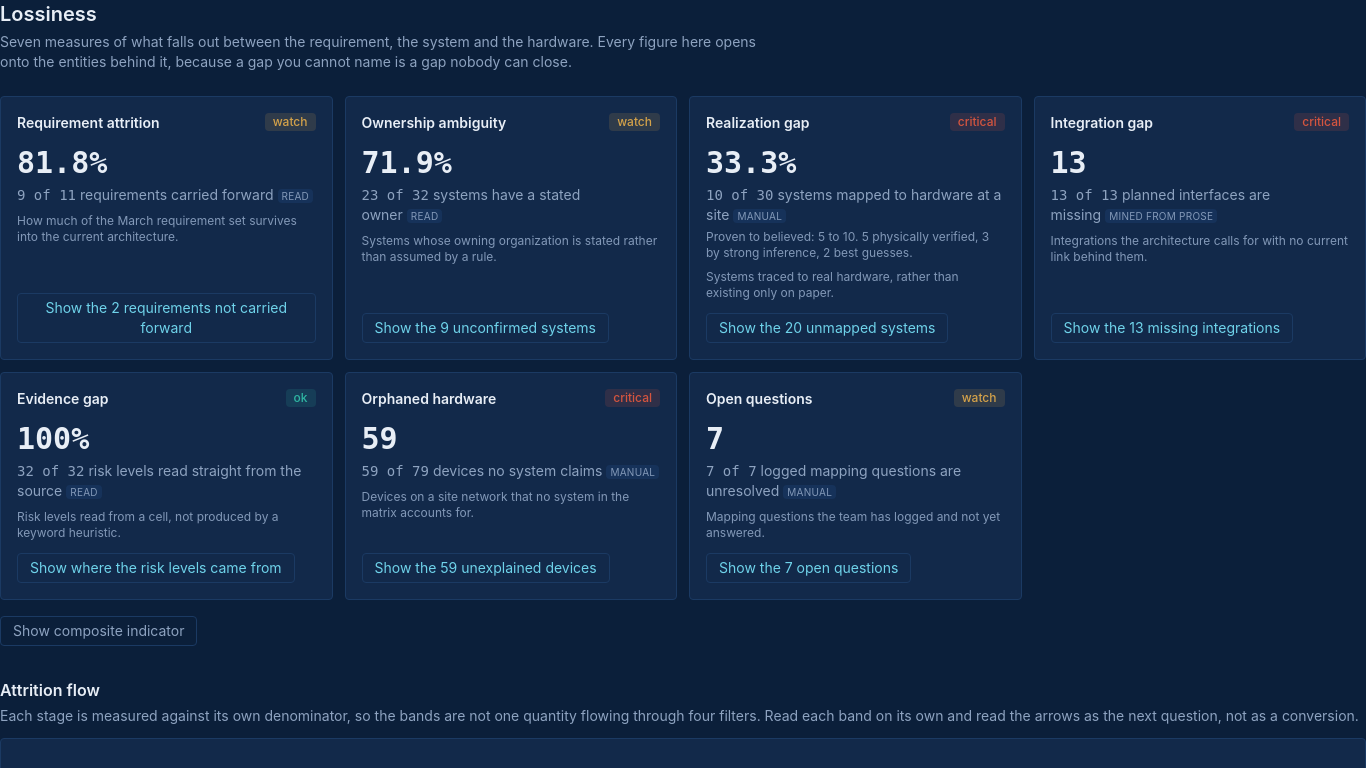
Test case: Lossiness › drills from a figure to the entities behind it
The width and height of the screenshot is (1366, 768).
Click the button "Show the 9 unconfirmed systems" at (485, 328), box [362,313,609,343]
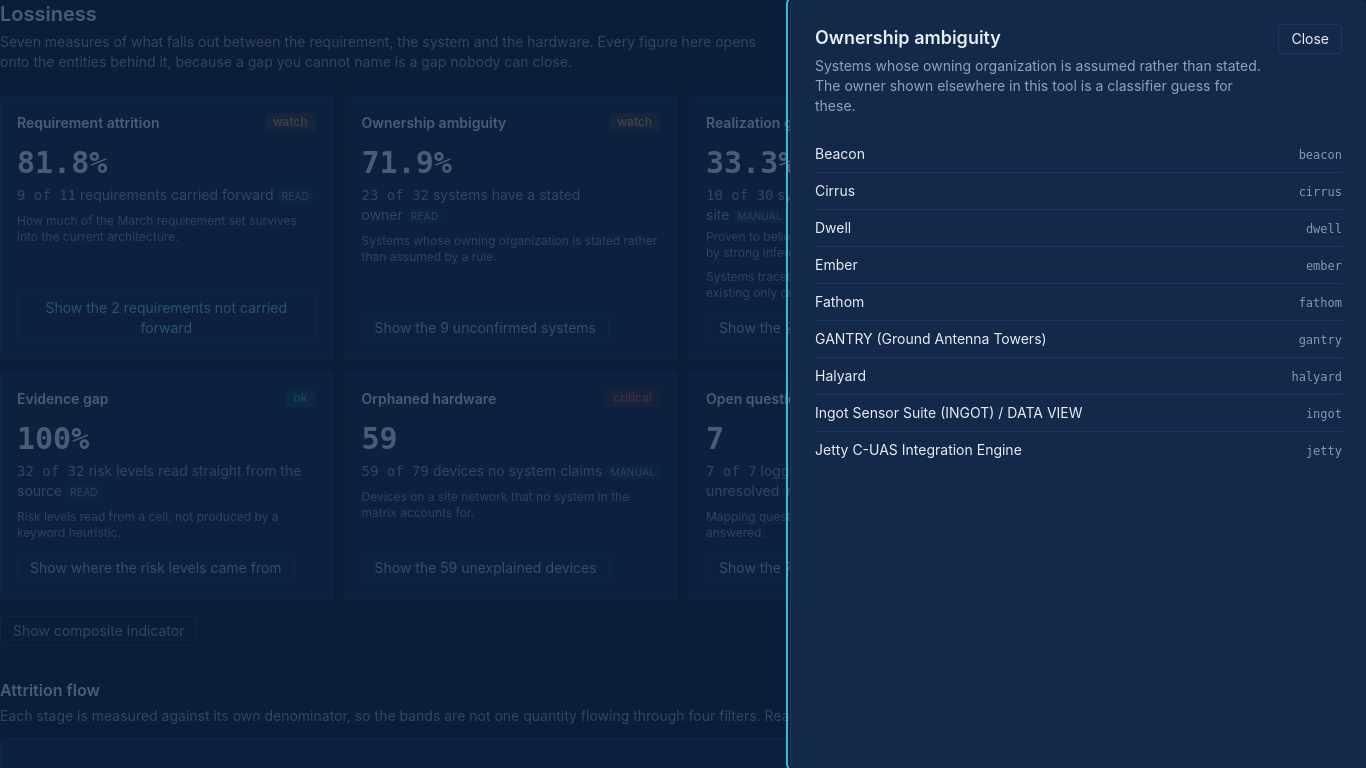
Check: the text "Beacon" is shown, box [815,144,865,164]
Check: the number of list items is 9
Check: the text "cirrus" is shown, box [1299,184,1342,200]
